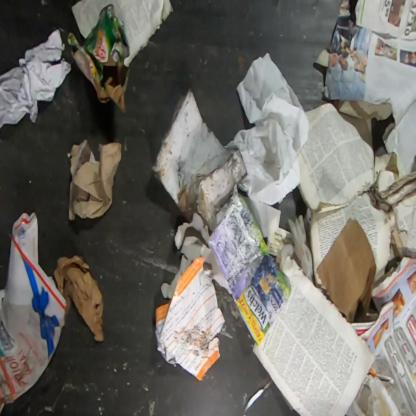cardboard: (0, 212, 68, 415), (62, 0, 131, 120), (53, 255, 104, 342)
soft_plastic: (209, 197, 288, 346)
